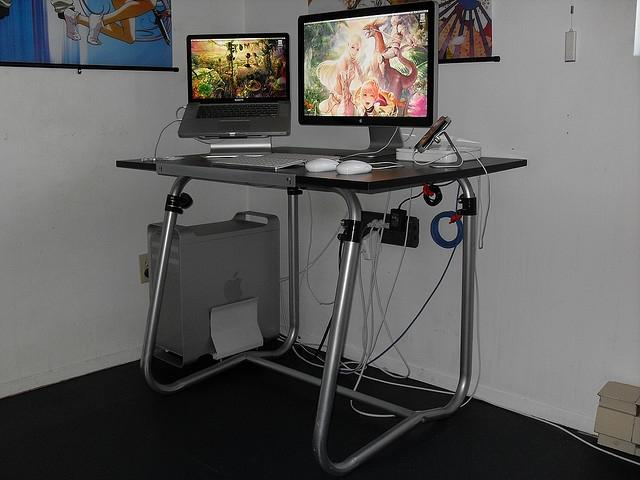apple: (224, 270, 244, 304), (359, 118, 362, 122)
